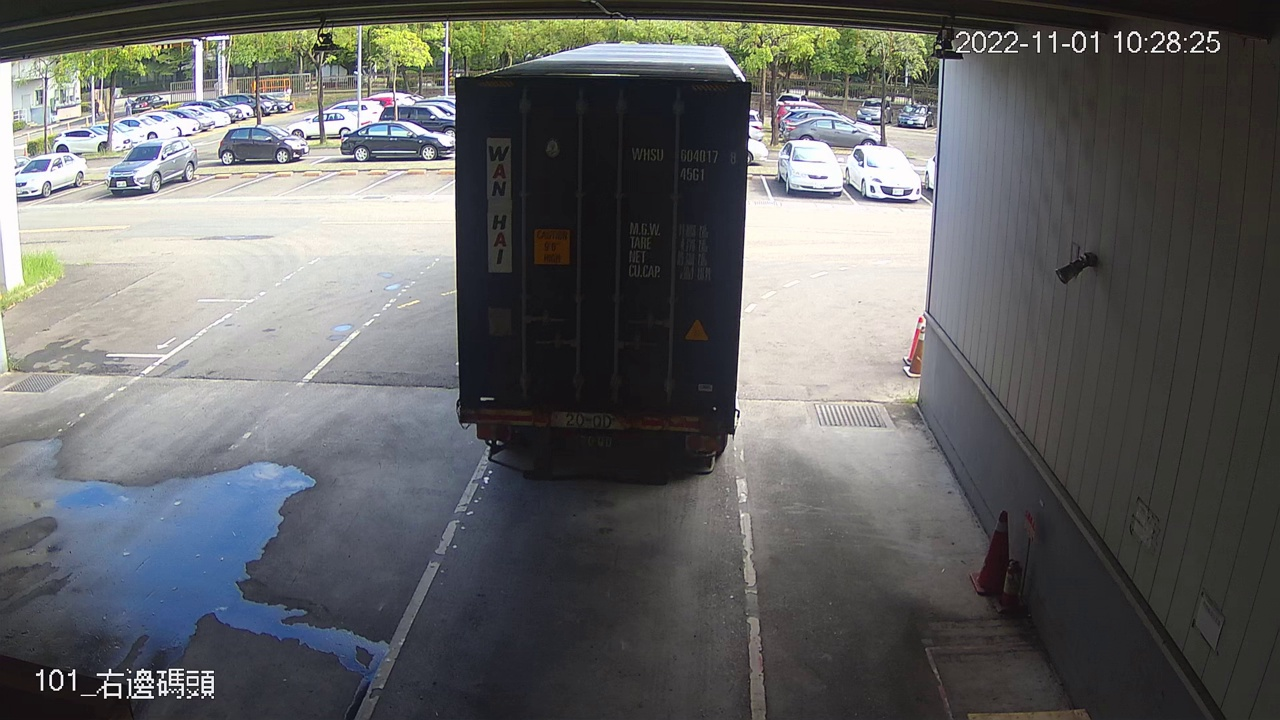container: (625, 139, 744, 191)
